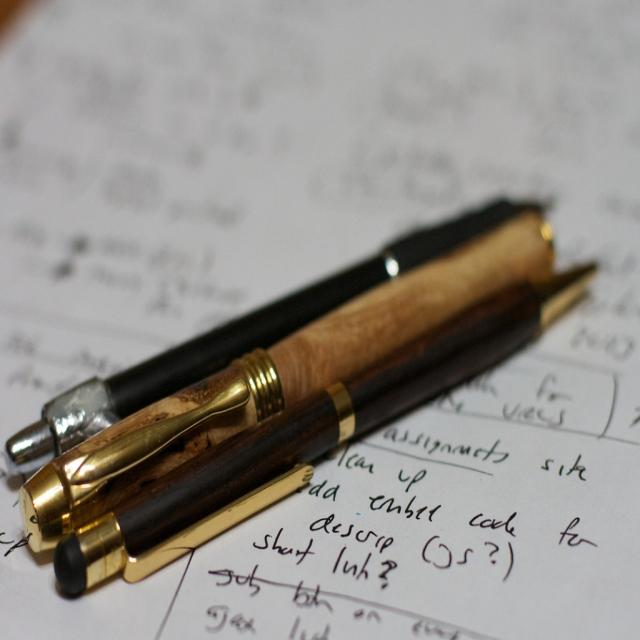pen: (23, 205, 561, 557), (2, 189, 554, 476)
